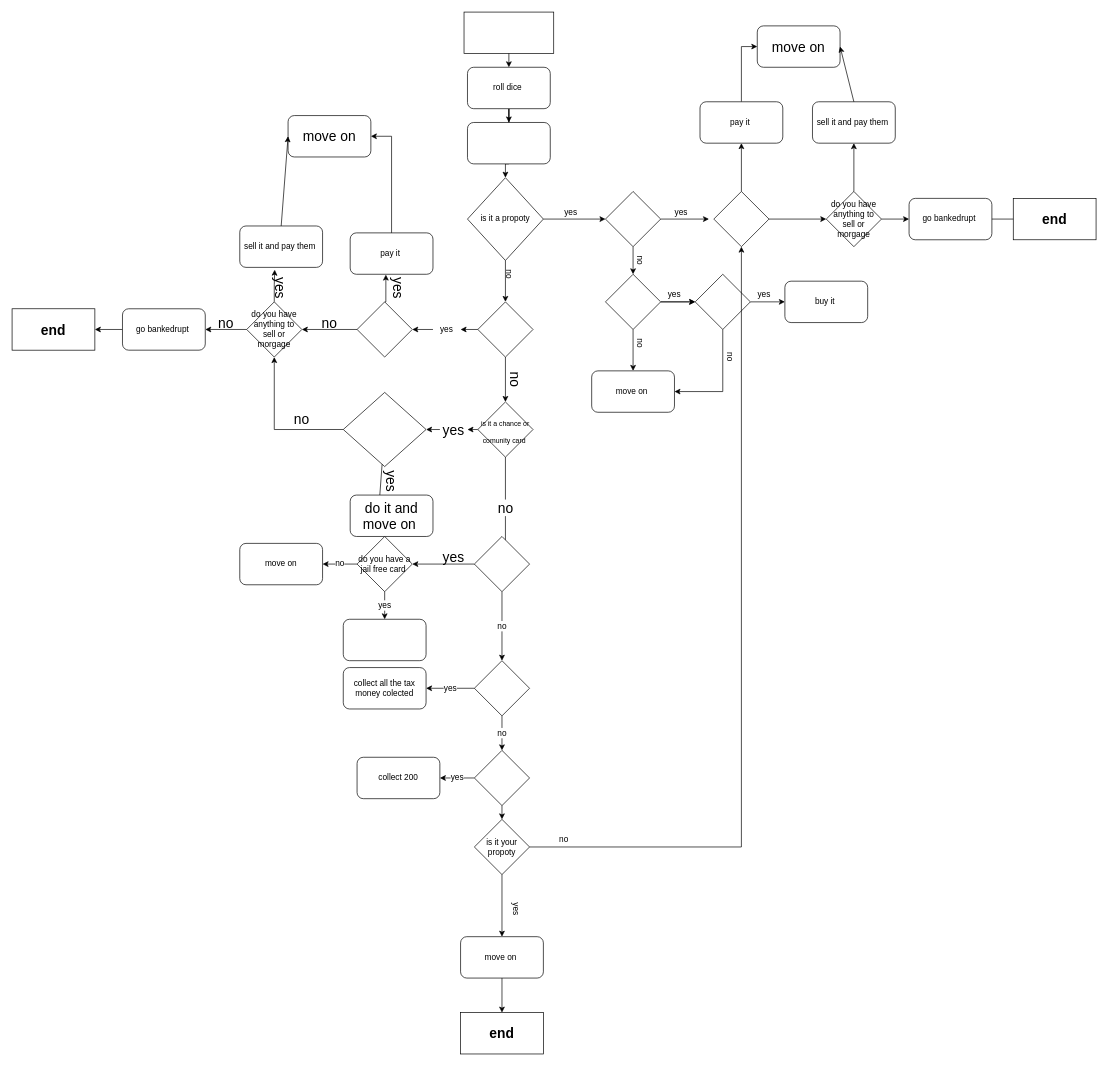
This 1108x1066 diagram has some shape labels left out. The centre of each missing label's shape, as x and y in pixels:
"can you afford it" goes at (x=722, y=301).
"can you afford the rent" goes at (x=741, y=219).
"can you afford the tax" goes at (x=384, y=329).
"can you afford to do what it says" goes at (x=384, y=429).
"do you want to buy it" goes at (x=633, y=301).
"dose someone own it" goes at (x=633, y=219).
"go to jail" goes at (x=384, y=640).
"go to number from dice roll" goes at (x=508, y=143).
"is it a free parking" goes at (x=502, y=688).
"is it a go to jail" goes at (x=502, y=564).
"is it an income tax" goes at (x=505, y=329).
"is it GO" goes at (x=502, y=778).
"start" goes at (x=508, y=32).
